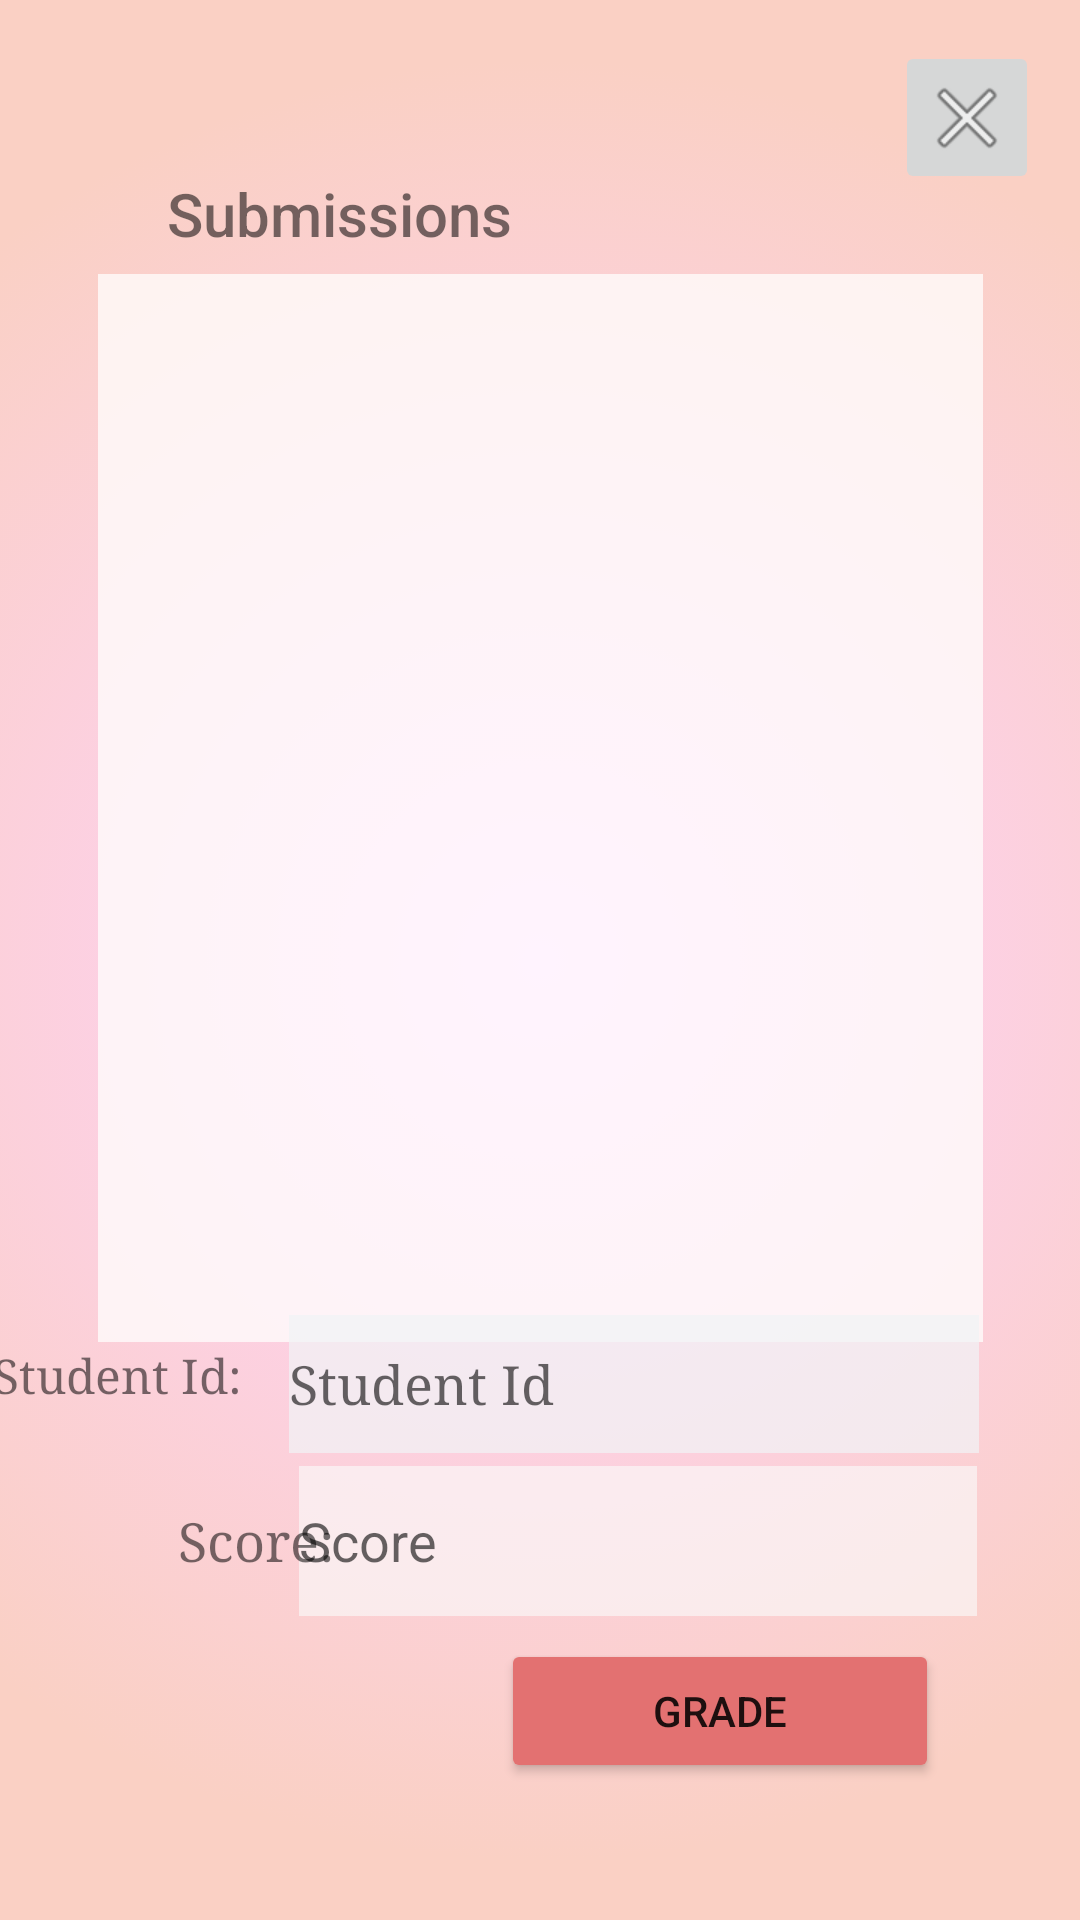

Icons on this 1080*1920 Android screen, each with its box as (x1, y1, x2, y2):
close clear cancel: (907, 59, 1027, 176)
